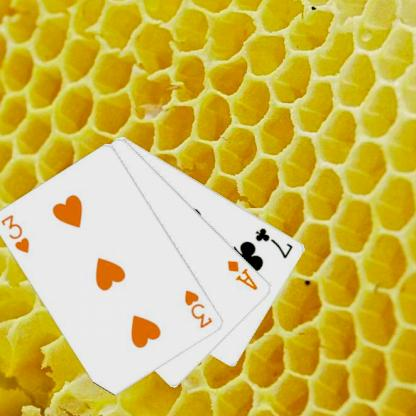3H: (182, 286, 214, 330), (0, 211, 31, 255)
7C: (252, 224, 295, 260)
AD: (225, 257, 259, 292)
